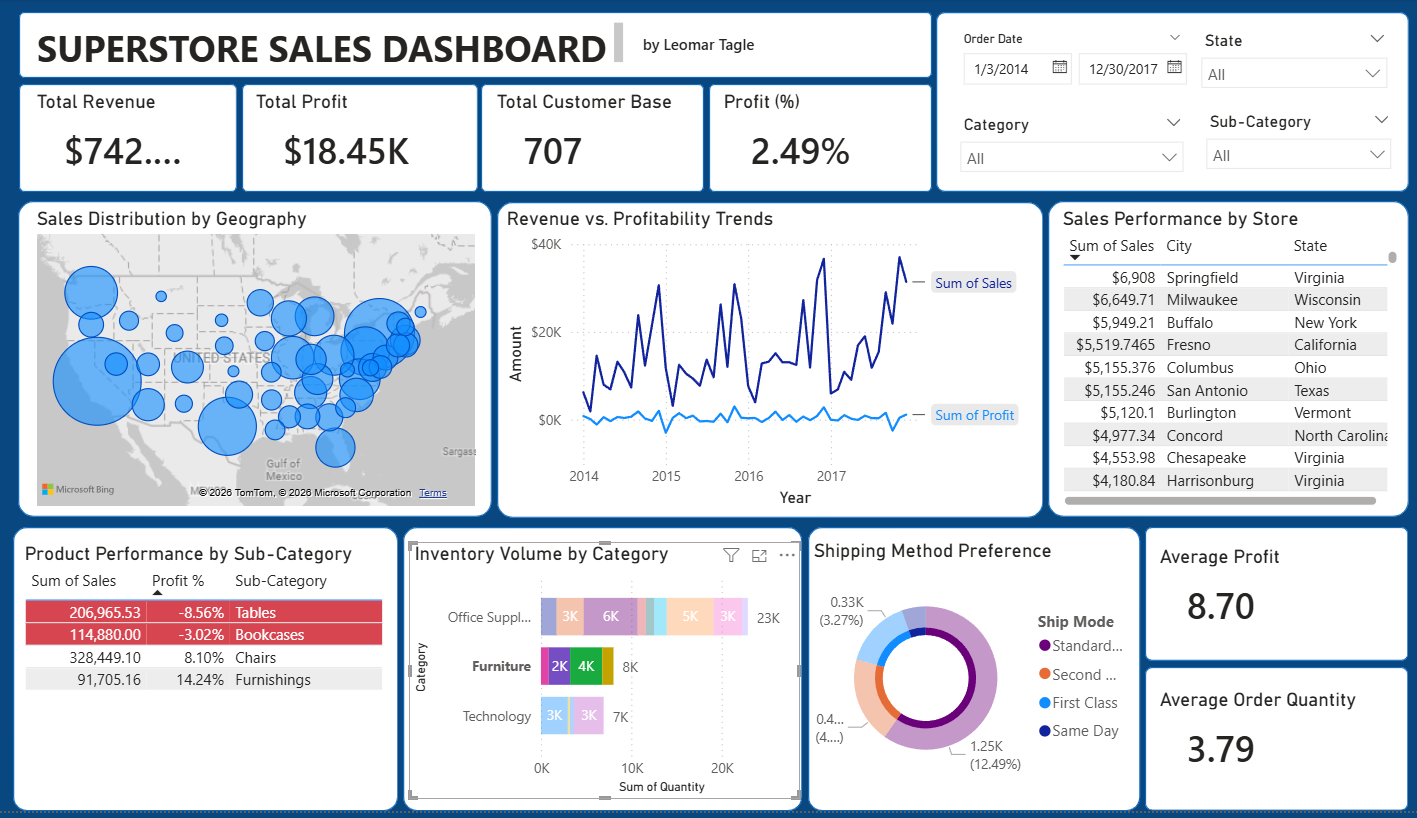

What the dashboard file says about the page in this screenshot:
{"tool":"powerbi","page":{"name":"Page 1","canvas":[1280,720],"ordinal":0},"visuals":[{"type":"shape","box":[1027.1,592.3,233.4,127.4],"z":0},{"type":"shape","box":[1027.1,467.8,233.4,118.7],"z":1000},{"type":"shape","box":[727.5,467.8,294.7,251.9],"z":2000},{"type":"shape","box":[368.6,467.8,354,251.9],"z":3000},{"type":"shape","box":[23.3,467.8,341.4,251.9],"z":4000},{"type":"shape","box":[940.5,179,320,280.1],"z":5000},{"type":"shape","box":[452.3,179.9,484.4,280.1],"z":6000},{"type":"shape","box":[27.2,179,420.2,280.1],"z":7000},{"type":"shape","box":[841.5,11.5,419.4,159.6],"z":8000},{"type":"shape","box":[28.4,11.5,809.6,58.5],"z":9000},{"type":"shape","box":[640.2,75.4,197.7,95.8],"z":10000},{"type":"shape","box":[438,75.4,197.7,95.8],"z":11000},{"type":"shape","box":[226.1,75.4,209.3,95.8],"z":12000},{"type":"shape","box":[28.4,75.4,193.3,95.8],"z":13000},{"type":"cardVisual","title":"Total Profit","fields":{"Data":["Sum(Sample - Superstore.Profit)"]},"box":[233.2,80.7,197.7,84.2],"z":14000},{"type":"cardVisual","title":"Total Revenue","fields":{"Data":["Sum(Sample - Superstore.Sales)"]},"box":[39,80.7,176.5,84.2],"z":15000},{"type":"cardVisual","title":"\tTotal Customer Base","fields":{"Data":["Count(Sample - Superstore.Customer ID)"]},"box":[446.9,80.7,180,84.2],"z":16000},{"type":"slicer","fields":{"Values":["Sample - Superstore.State"]},"box":[1067,24.3,184.8,62.2],"z":17000},{"type":"slicer","fields":{"Values":["Sample - Superstore.Order Date"]},"box":[853,24.3,217.9,73.9],"z":18000},{"type":"map","title":"\tSales Distribution by Geography","fields":{"Category":["Sample - Superstore.State","Sample - Superstore.City"],"Size":["Sum(Sample - Superstore.Sales)"]},"box":[38.9,184.8,398.8,270.4],"z":19000},{"type":"lineChart","title":"Revenue vs. Profitability Trends","fields":{"Y":["Sum(Sample - Superstore.Profit)","Sum(Sample - Superstore.Sales)"],"Category":["Sample - Superstore.Order Date.Variation.Date Hierarchy.Year","Sample - Superstore.Order Date.Variation.Date Hierarchy.Month"]},"box":[456.2,184.8,466.9,270.4],"z":20000},{"type":"tableEx","title":"Sales Performance by Store","fields":{"Values":["Sum(Sample - Superstore.Sales)","Sample - Superstore.City","Sample - Superstore.State"]},"box":[948.8,184.4,306.8,270.4],"z":21000},{"type":"donutChart","title":"\tShipping Method Preference","fields":{"Category":["Sample - Superstore.Ship Mode"],"Y":["CountNonNull(Sample - Superstore.Customer ID)"]},"box":[727.5,478.5,294.7,227.6],"z":22000},{"type":"slicer","fields":{"Values":["Sample - Superstore.Category"]},"box":[853,98.4,218.1,61.2],"z":23000},{"type":"barChart","title":"\tInventory Volume by Category","fields":{"Category":["Sample - Superstore.Category"],"Y":["Sum(Sample - Superstore.Quantity)"],"Series":["Sample - Superstore.Sub-Category"]},"box":[374.2,481.5,346.7,227.9],"z":24000},{"type":"cardVisual","title":"Average Order Quantity","fields":{"Data":["Avg(Sample - Superstore.Quantity)"]},"box":[1034.9,610.8,216.9,83.6],"z":25000},{"type":"cardVisual","title":"Average Profit","fields":{"Data":["Avg(Sample - Superstore.Profit)"]},"box":[1034.9,484.4,216.9,83.6],"z":26000},{"type":"slicer","fields":{"Values":["Sample - Superstore.Sub-Category"]},"box":[1071.1,95.8,184.4,63.8],"z":27000},{"type":"cardVisual","title":"Profit (%)","fields":{"Data":["Sample - Superstore.Sum of Profit divided by Sum of Sales 2"]},"box":[648.2,80.7,179.1,84.2],"z":28000},{"type":"textbox","box":[39,16,530.2,48.8],"z":29000},{"type":"tableEx","title":"Product Performance by Sub-Category","fields":{"Values":["Sum(Sample - Superstore.Sales)","Sample - Superstore.Sum of Profit divided by Sum of Sales 2","Sample - Superstore.Sub-Category"]},"box":[28.4,481.5,336.9,228.8],"z":30000},{"type":"textbox","box":[576.4,26.6,127.7,27.5],"z":31000}]}

Visuals, with their boxes in screenshot pixels (x1, y1, x2, y2), scaled from the page's 1280x720 canvas onto the 1417x818 screenshot:
shape: <region>1137, 673, 1395, 817</region>
shape: <region>1137, 531, 1395, 666</region>
shape: <region>805, 531, 1132, 817</region>
shape: <region>408, 531, 800, 817</region>
shape: <region>26, 531, 404, 817</region>
shape: <region>1041, 203, 1395, 522</region>
shape: <region>501, 204, 1037, 523</region>
shape: <region>30, 203, 495, 522</region>
shape: <region>932, 13, 1396, 194</region>
shape: <region>31, 13, 928, 80</region>
shape: <region>709, 86, 928, 195</region>
shape: <region>485, 86, 704, 195</region>
shape: <region>250, 86, 482, 195</region>
shape: <region>31, 86, 245, 195</region>
"Total Profit" cardVisual: <region>258, 92, 477, 187</region>
"Total Revenue" cardVisual: <region>43, 92, 239, 187</region>
"	Total Customer Base" cardVisual: <region>495, 92, 694, 187</region>
slicer - Sample - Superstore.State: <region>1181, 28, 1386, 98</region>
slicer - Sample - Superstore.Order Date: <region>944, 28, 1186, 112</region>
"	Sales Distribution by Geography" map: <region>43, 210, 485, 517</region>
"Revenue vs. Profitability Trends" lineChart: <region>505, 210, 1022, 517</region>
"Sales Performance by Store" tableEx: <region>1050, 209, 1390, 517</region>
"	Shipping Method Preference" donutChart: <region>805, 544, 1132, 802</region>
slicer - Sample - Superstore.Category: <region>944, 112, 1186, 181</region>
"	Inventory Volume by Category" barChart: <region>414, 547, 798, 806</region>
"Average Order Quantity" cardVisual: <region>1146, 694, 1386, 789</region>
"Average Profit" cardVisual: <region>1146, 550, 1386, 645</region>
slicer - Sample - Superstore.Sub-Category: <region>1186, 109, 1390, 181</region>
"Profit (%)" cardVisual: <region>718, 92, 916, 187</region>
textbox: <region>43, 18, 630, 74</region>
"Product Performance by Sub-Category" tableEx: <region>31, 547, 404, 807</region>
textbox: <region>638, 30, 779, 61</region>
